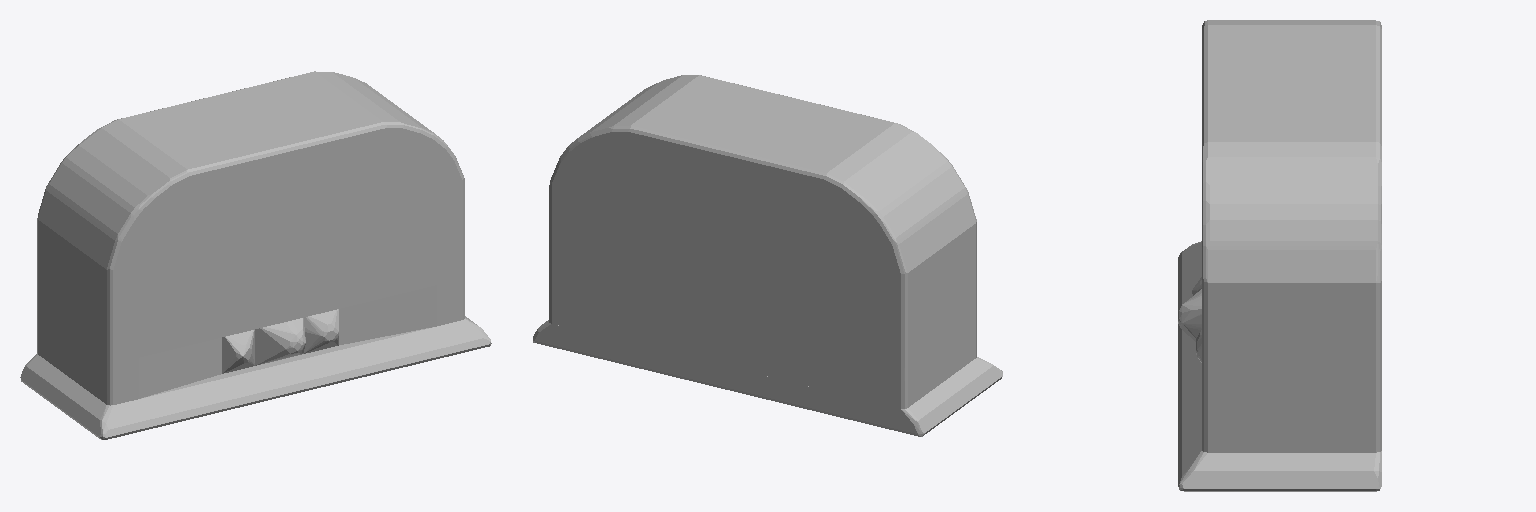
robot.urdf — root:
<robot name="root">
  <link name="body">
    <visual>
      <origin xyz="0 0 0" rpy="0 0 0"/>
      <geometry>
        <mesh filename="coacd_convex_piece_0.obj" scale="1.0000E+00 1.0000E+00 1.0000E+00"/>
      </geometry>
      <material name="">
        <color rgba="7.50E-01 7.50E-01 7.50E-01 1"/>
      </material>
    </visual>
    <collision>
      <origin xyz="0 0 0" rpy="0 0 0"/>
      <geometry>
        <mesh filename="coacd_convex_piece_0.obj" scale="1.0000E+00 1.0000E+00 1.0000E+00"/>
      </geometry>
    </collision>
    <visual>
      <origin xyz="0 0 0" rpy="0 0 0"/>
      <geometry>
        <mesh filename="coacd_convex_piece_1.obj" scale="1.0000E+00 1.0000E+00 1.0000E+00"/>
      </geometry>
      <material name="">
        <color rgba="7.50E-01 7.50E-01 7.50E-01 1"/>
      </material>
    </visual>
    <collision>
      <origin xyz="0 0 0" rpy="0 0 0"/>
      <geometry>
        <mesh filename="coacd_convex_piece_1.obj" scale="1.0000E+00 1.0000E+00 1.0000E+00"/>
      </geometry>
    </collision>
    <visual>
      <origin xyz="0 0 0" rpy="0 0 0"/>
      <geometry>
        <mesh filename="coacd_convex_piece_2.obj" scale="1.0000E+00 1.0000E+00 1.0000E+00"/>
      </geometry>
      <material name="">
        <color rgba="7.50E-01 7.50E-01 7.50E-01 1"/>
      </material>
    </visual>
    <collision>
      <origin xyz="0 0 0" rpy="0 0 0"/>
      <geometry>
        <mesh filename="coacd_convex_piece_2.obj" scale="1.0000E+00 1.0000E+00 1.0000E+00"/>
      </geometry>
    </collision>
    <visual>
      <origin xyz="0 0 0" rpy="0 0 0"/>
      <geometry>
        <mesh filename="coacd_convex_piece_3.obj" scale="1.0000E+00 1.0000E+00 1.0000E+00"/>
      </geometry>
      <material name="">
        <color rgba="7.50E-01 7.50E-01 7.50E-01 1"/>
      </material>
    </visual>
    <collision>
      <origin xyz="0 0 0" rpy="0 0 0"/>
      <geometry>
        <mesh filename="coacd_convex_piece_3.obj" scale="1.0000E+00 1.0000E+00 1.0000E+00"/>
      </geometry>
    </collision>
    <visual>
      <origin xyz="0 0 0" rpy="0 0 0"/>
      <geometry>
        <mesh filename="coacd_convex_piece_4.obj" scale="1.0000E+00 1.0000E+00 1.0000E+00"/>
      </geometry>
      <material name="">
        <color rgba="7.50E-01 7.50E-01 7.50E-01 1"/>
      </material>
    </visual>
    <collision>
      <origin xyz="0 0 0" rpy="0 0 0"/>
      <geometry>
        <mesh filename="coacd_convex_piece_4.obj" scale="1.0000E+00 1.0000E+00 1.0000E+00"/>
      </geometry>
    </collision>
    <visual>
      <origin xyz="0 0 0" rpy="0 0 0"/>
      <geometry>
        <mesh filename="coacd_convex_piece_5.obj" scale="1.0000E+00 1.0000E+00 1.0000E+00"/>
      </geometry>
      <material name="">
        <color rgba="7.50E-01 7.50E-01 7.50E-01 1"/>
      </material>
    </visual>
    <collision>
      <origin xyz="0 0 0" rpy="0 0 0"/>
      <geometry>
        <mesh filename="coacd_convex_piece_5.obj" scale="1.0000E+00 1.0000E+00 1.0000E+00"/>
      </geometry>
    </collision>
    <visual>
      <origin xyz="0 0 0" rpy="0 0 0"/>
      <geometry>
        <mesh filename="coacd_convex_piece_6.obj" scale="1.0000E+00 1.0000E+00 1.0000E+00"/>
      </geometry>
      <material name="">
        <color rgba="7.50E-01 7.50E-01 7.50E-01 1"/>
      </material>
    </visual>
    <collision>
      <origin xyz="0 0 0" rpy="0 0 0"/>
      <geometry>
        <mesh filename="coacd_convex_piece_6.obj" scale="1.0000E+00 1.0000E+00 1.0000E+00"/>
      </geometry>
    </collision>
  </link>
</robot>

--- Render facts (derived) ---
The picture shows the robot from 3 angles, left to right: view 1: azimuth 30°, elevation 25°; view 2: azimuth 150°, elevation 25°; view 3: azimuth 270°, elevation 25°; orthographic projection.
Robot: root — 1 links, 0 joints (none); root link body; default pose: every joint at zero.
Links seen in each view (by area): view 1: body; view 2: body; view 3: body.
Link boxes in pixels (box(x1,y1,x2,y2)): body: box(20, 71, 491, 439); body: box(533, 75, 1002, 436); body: box(1178, 20, 1381, 491).
Size in the robot's own frame: 1.62 by 0.5995 by 0.9522 metres.
7 mesh visuals loaded from 7 distinct referenced files (7 OBJ).
